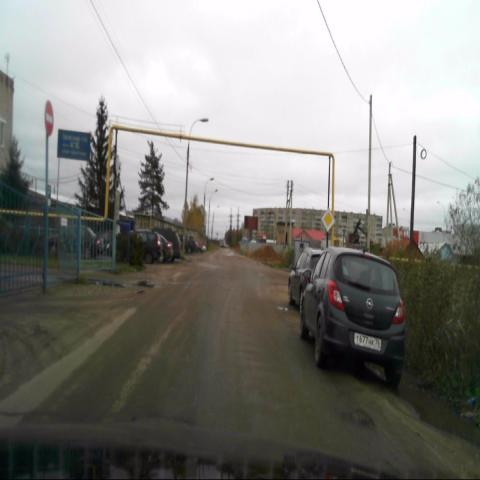2_1: (321, 207, 335, 232)
3_1: (44, 98, 54, 136)
